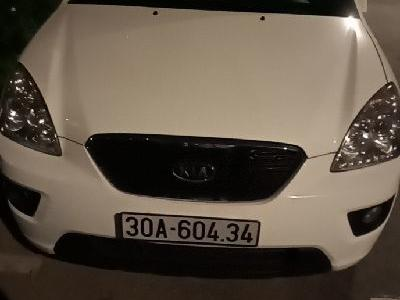car: (119, 211, 262, 248)
